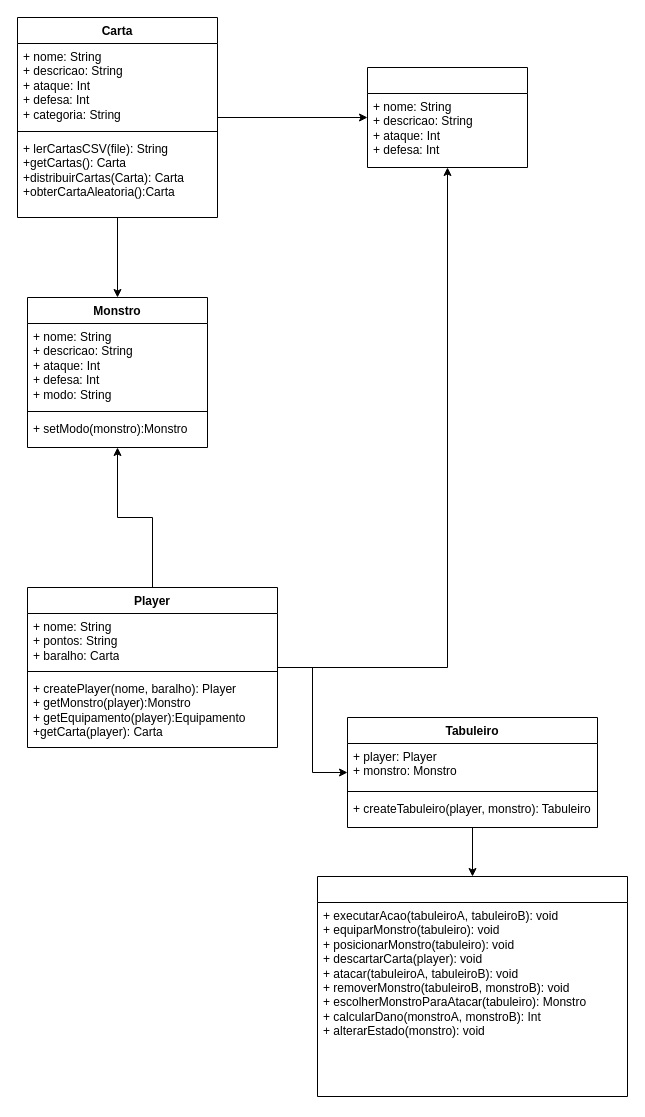
The diagram is 645 pixels wide and 1117 high, and some of its shapes have lost their labels. Here are the shapes that lost their labels. From the top down, the box of each, then its label:
(366, 66, 528, 168): Equipamento
(316, 876, 628, 1096): Rodada
